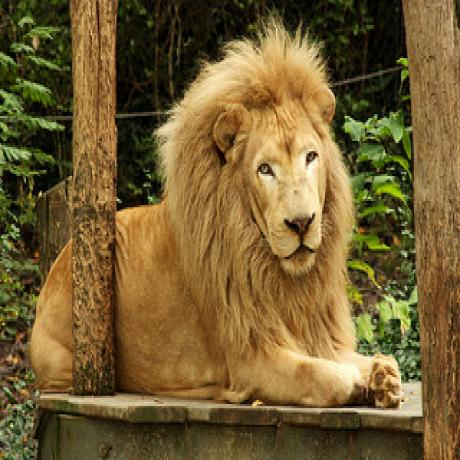Lion: (31, 26, 400, 413)
